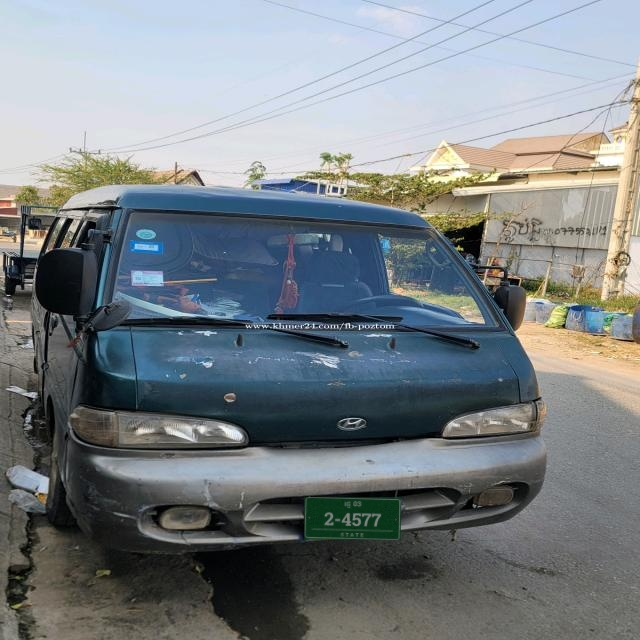Plate Number: (305, 498, 401, 540)
